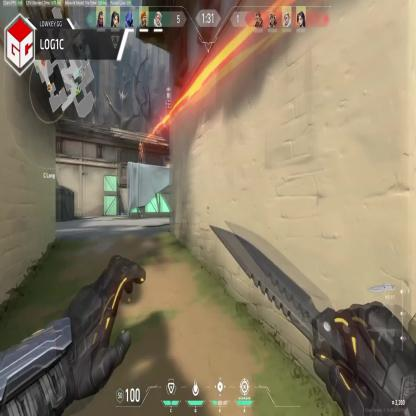enemy: (138, 142, 143, 165)
enemy_head: (139, 142, 142, 148)
